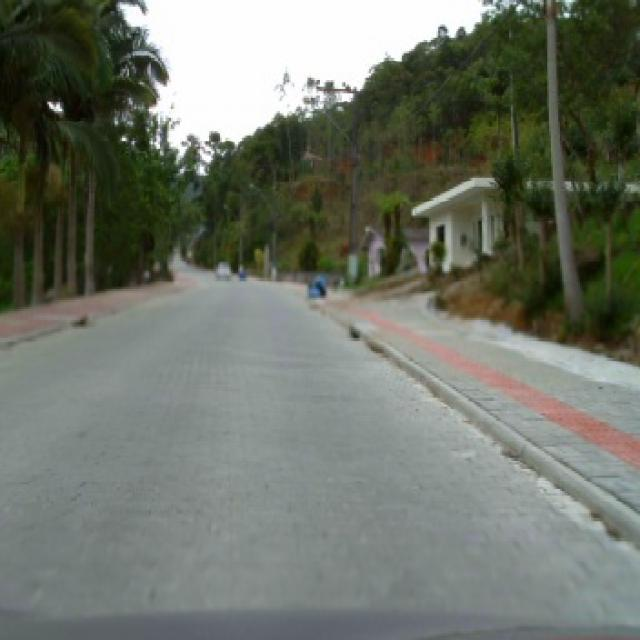Poth-hole: (347, 322, 360, 338), (69, 316, 87, 326)
